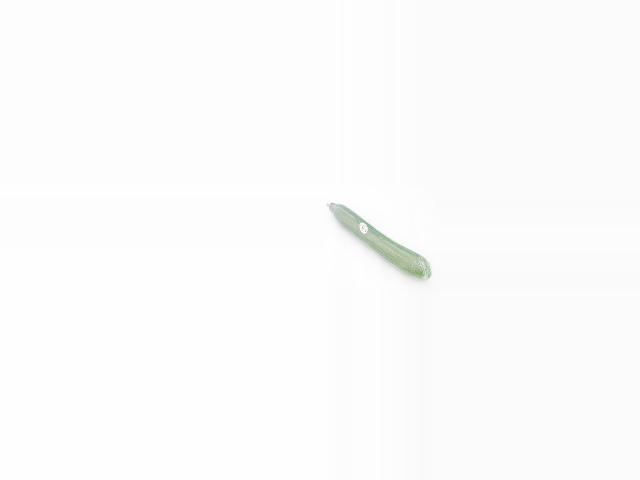cucumber: (326, 202, 430, 279)
